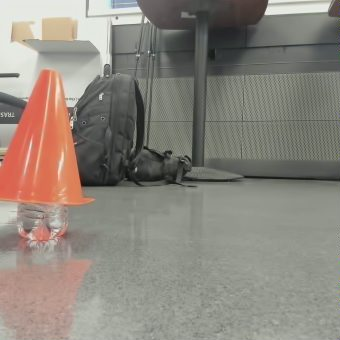Cone: (4, 65, 91, 198)
